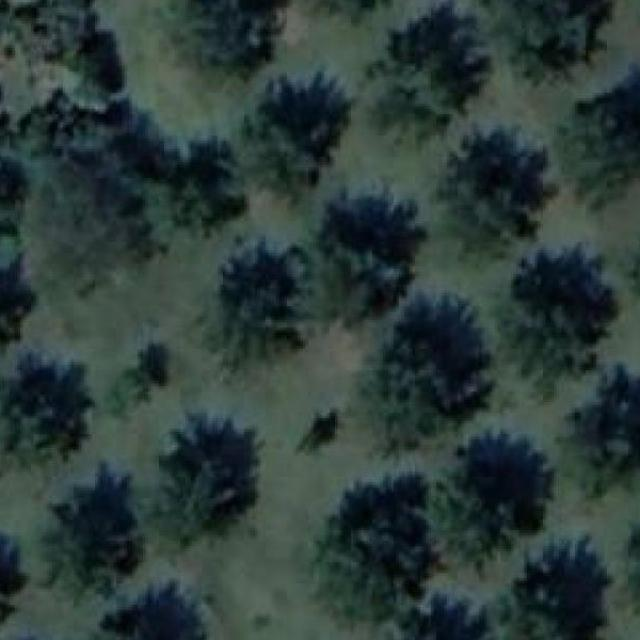Tree: (14, 106, 156, 284), (353, 290, 497, 461), (182, 232, 303, 392), (316, 475, 444, 624), (422, 426, 554, 568), (367, 5, 490, 150), (308, 188, 431, 330), (436, 130, 559, 261), (501, 253, 628, 375), (38, 461, 145, 605), (145, 411, 266, 538), (244, 75, 351, 208), (170, 0, 293, 103), (500, 535, 616, 640), (559, 66, 640, 210), (0, 0, 125, 93), (0, 348, 88, 479), (558, 363, 640, 496), (494, 0, 614, 75), (92, 580, 218, 640), (170, 155, 242, 240), (383, 596, 506, 640), (0, 487, 31, 640), (285, 0, 429, 31), (0, 252, 40, 362), (113, 333, 170, 402), (292, 411, 346, 458), (626, 200, 640, 328), (628, 498, 640, 626)
